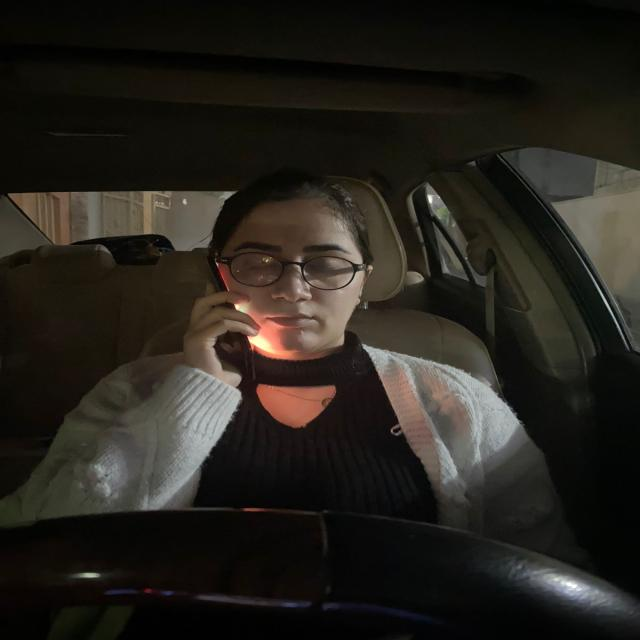phone: (200, 255, 248, 352)
